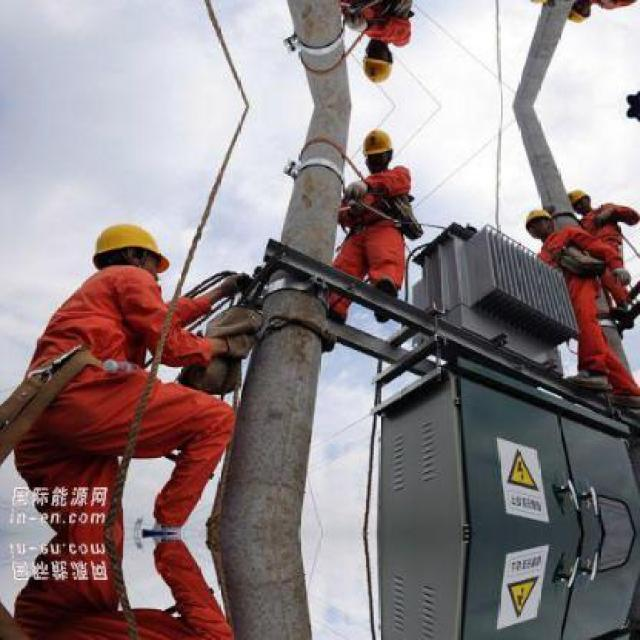helmet: (88, 217, 170, 284), (358, 124, 396, 172), (358, 41, 396, 89), (521, 208, 556, 238), (568, 187, 592, 216), (568, 0, 592, 26), (520, 0, 557, 6)
